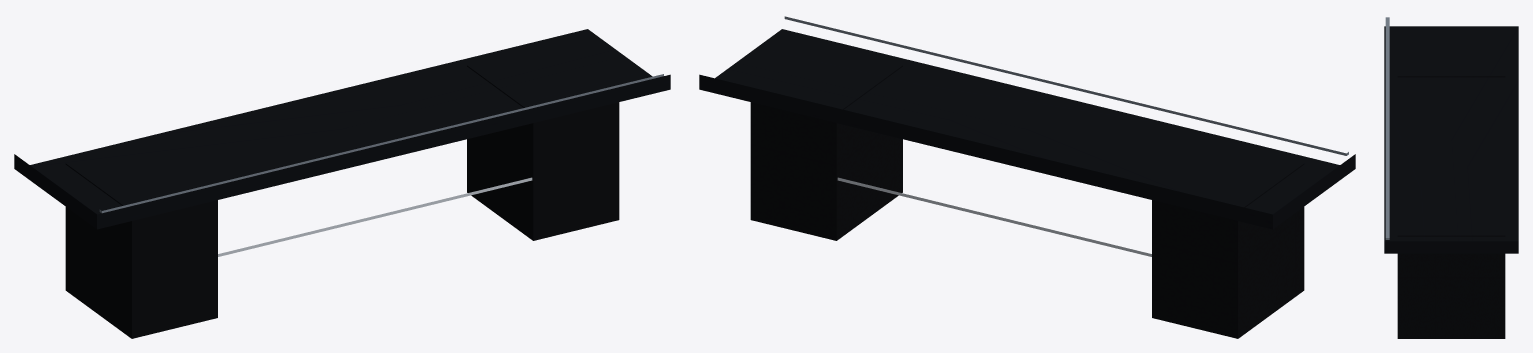
File: v4_rally_bench.glb
The picture shows the model from 3 angles, left to right: view 1: azimuth 30°, elevation 25°; view 2: azimuth 150°, elevation 25°; view 3: azimuth 270°, elevation 25°; orthographic projection. The views are drawn at different scales.
Visible parts, largest first — view 1: Bench_Seat, Bench_Plinths, Seat_Edge, Seat_Net; view 2: Bench_Seat, Bench_Plinths, Seat_Edge, Seat_Net; view 3: Bench_Seat, Bench_Plinths, Seat_Edge.
Boxes of the visible parts, x1,y1,x2,y2 form: Bench_Seat: [14, 29, 670, 229]; Bench_Plinths: [65, 65, 619, 338]; Seat_Edge: [99, 74, 663, 213]; Seat_Net: [218, 177, 532, 256]; Bench_Seat: [699, 29, 1355, 229]; Bench_Plinths: [750, 65, 1304, 338]; Seat_Edge: [784, 16, 1348, 155]; Seat_Net: [837, 177, 1151, 256]; Bench_Seat: [1384, 26, 1518, 253]; Bench_Plinths: [1397, 76, 1505, 338]; Seat_Edge: [1385, 17, 1389, 239].
Size of what is drawn, in the model's own units: 2 by 0.475 by 0.5.
Materials: 4 (4 with a texture image).
